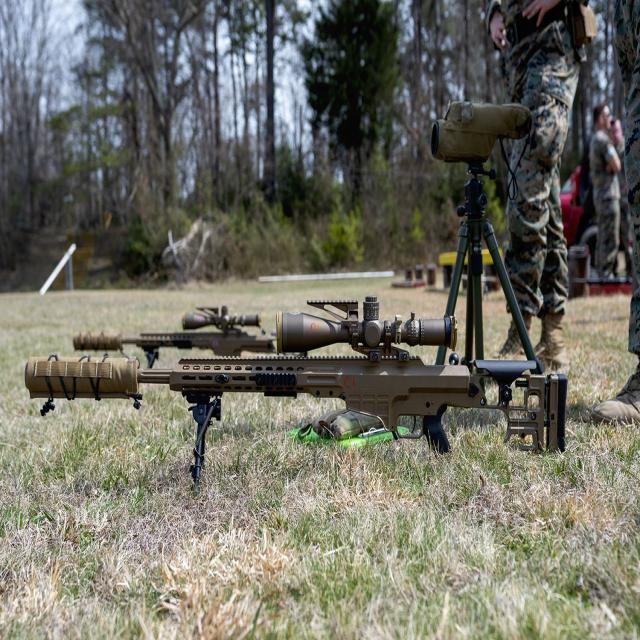Rifle: (25, 301, 570, 453), (73, 307, 280, 360)
